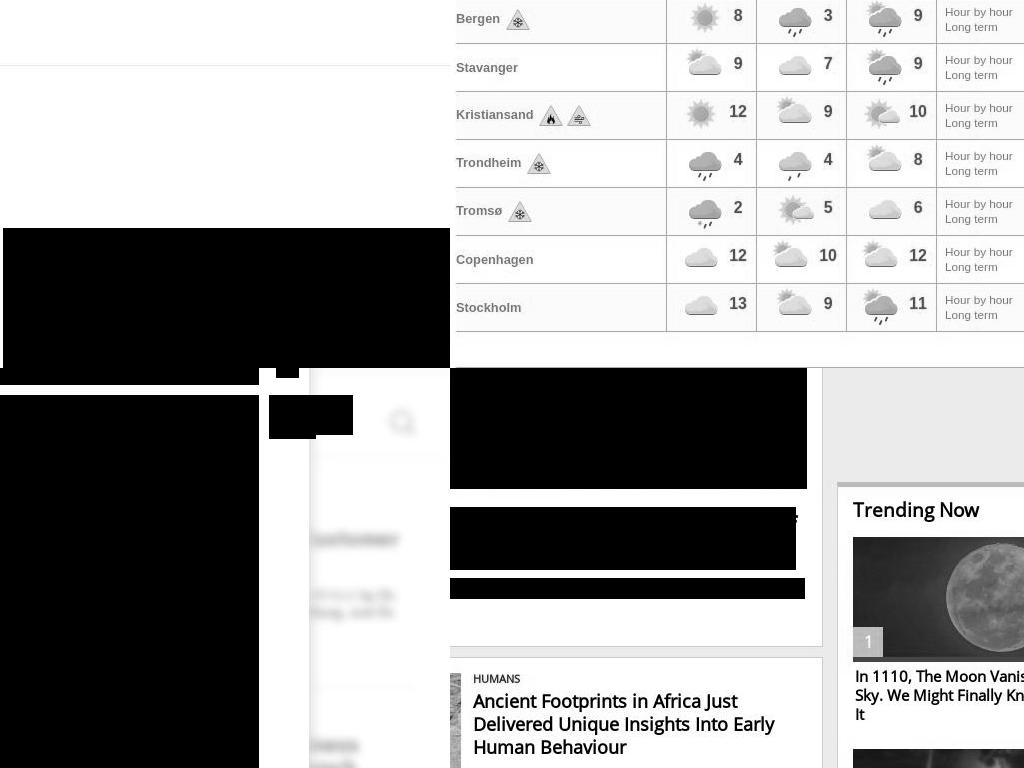button: (269, 395, 353, 435), (371, 395, 411, 435)
heading: (145, 502, 399, 574), (145, 731, 359, 768)
iframe: (0, 395, 259, 768)
image: (3, 228, 450, 368), (450, 368, 807, 484), (853, 537, 1024, 657), (566, 103, 592, 128), (526, 151, 552, 176), (507, 199, 533, 224), (505, 7, 530, 32), (539, 103, 564, 128), (391, 411, 415, 435), (276, 368, 299, 378)
link: (450, 507, 796, 570), (472, 688, 774, 759), (855, 665, 1024, 724), (177, 398, 246, 439), (145, 588, 254, 603), (456, 106, 534, 122), (456, 252, 534, 267), (456, 154, 521, 170), (456, 300, 521, 315), (456, 60, 518, 75), (945, 5, 1013, 18), (945, 53, 1013, 66), (945, 101, 1013, 114), (945, 149, 1013, 162), (945, 197, 1013, 210), (945, 245, 1013, 258), (945, 293, 1013, 306), (472, 671, 520, 687), (456, 202, 502, 218), (456, 10, 500, 26), (945, 20, 998, 33), (945, 68, 998, 81), (945, 116, 998, 129), (945, 164, 998, 177), (945, 212, 998, 225), (945, 260, 998, 273), (945, 308, 998, 321)
text: (837, 368, 1024, 462), (145, 586, 397, 621), (145, 603, 396, 638), (450, 578, 805, 599), (853, 497, 1024, 522), (450, 483, 807, 489), (239, 603, 342, 621), (257, 588, 357, 603), (269, 416, 316, 439), (853, 656, 1024, 662), (853, 626, 883, 657), (729, 101, 747, 122), (909, 101, 927, 122), (729, 245, 747, 266), (819, 245, 837, 266), (909, 245, 927, 266), (729, 293, 747, 314), (909, 293, 927, 314), (472, 763, 534, 768), (733, 5, 743, 26), (823, 5, 833, 26), (913, 5, 923, 26), (733, 53, 743, 74), (823, 53, 833, 74), (913, 53, 923, 74), (823, 101, 833, 122), (733, 149, 743, 170), (823, 149, 833, 170), (913, 149, 923, 170), (733, 197, 743, 218), (823, 197, 833, 218), (913, 197, 923, 218), (823, 293, 833, 314)
